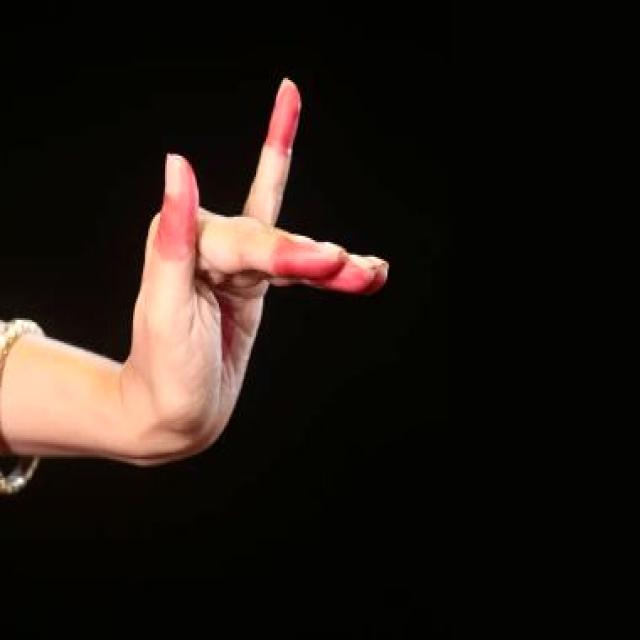Mrigashirsha: (116, 41, 424, 496)
